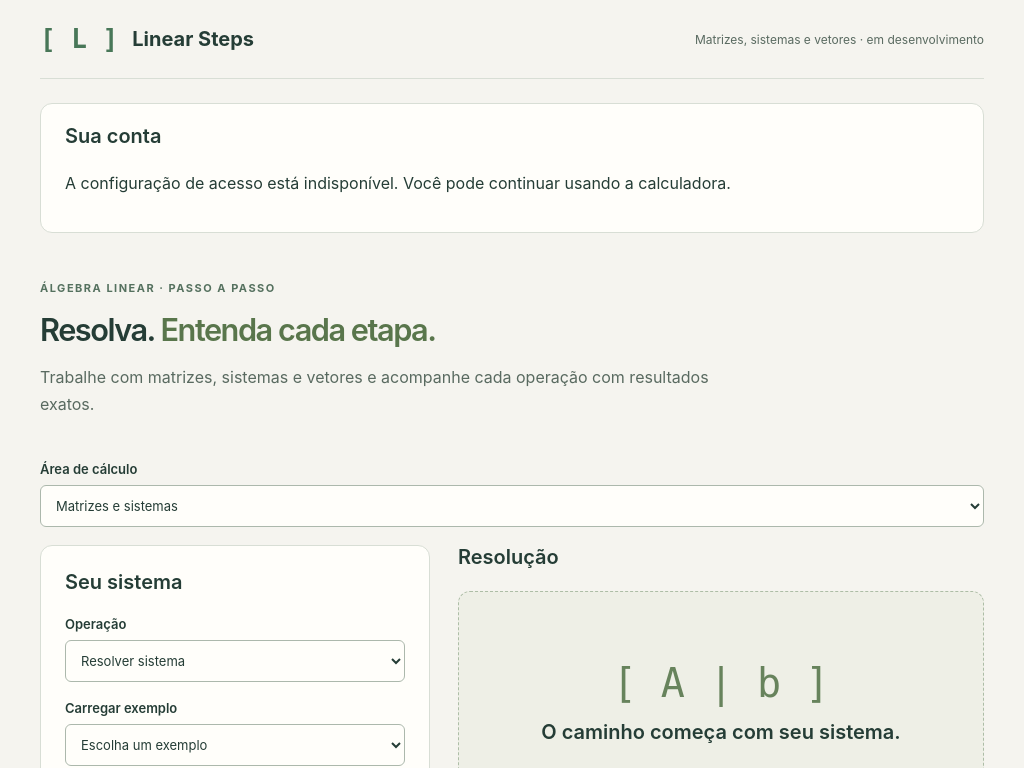
Test: rejects order five and offers an explicit method change
Select "Matriz inversa" in the dropdown labelled "Operação". click: (235, 661)
box: [65,640,405,682]
(page scrolled)
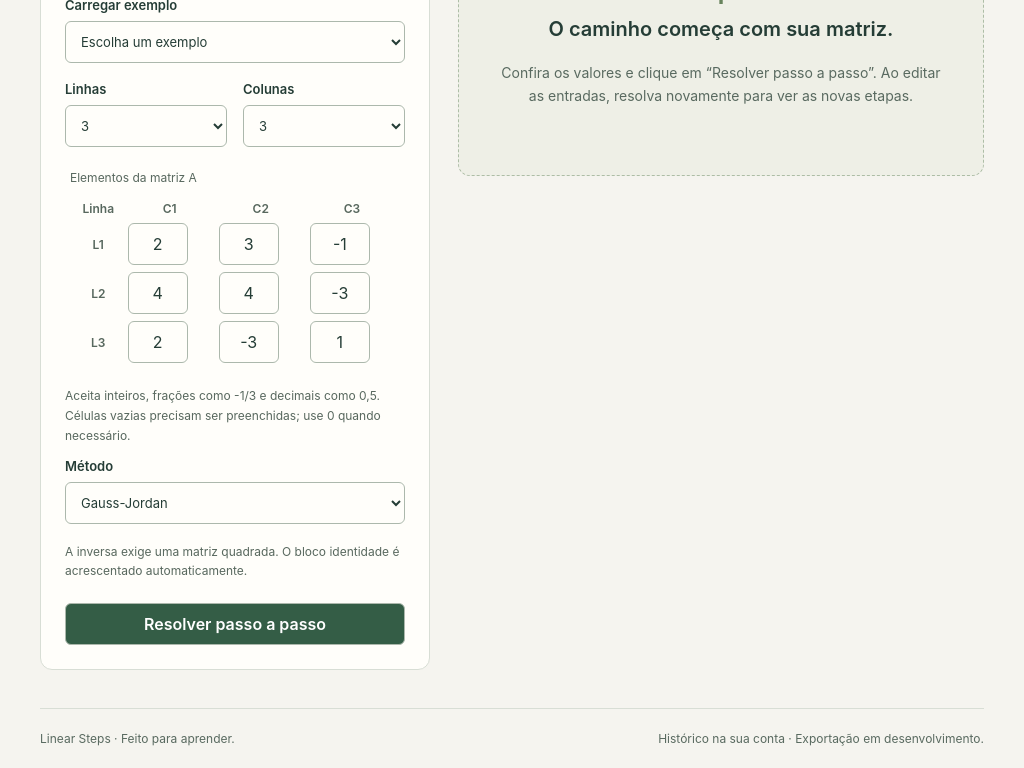
Select "Adjunta e determinante (até ordem 4)" in the dropdown labelled "Método". click: (235, 503)
box: [65,482,405,524]
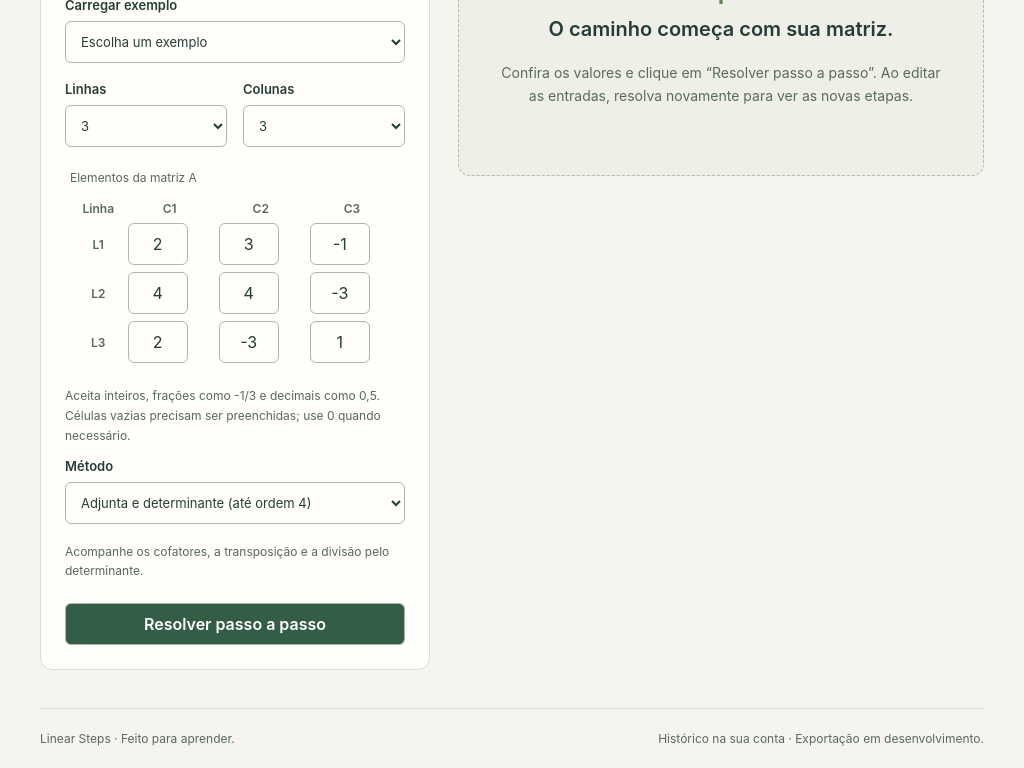
Select "5" in the dropdown labelled "Linhas". click: (146, 126)
box: [65,105,227,147]
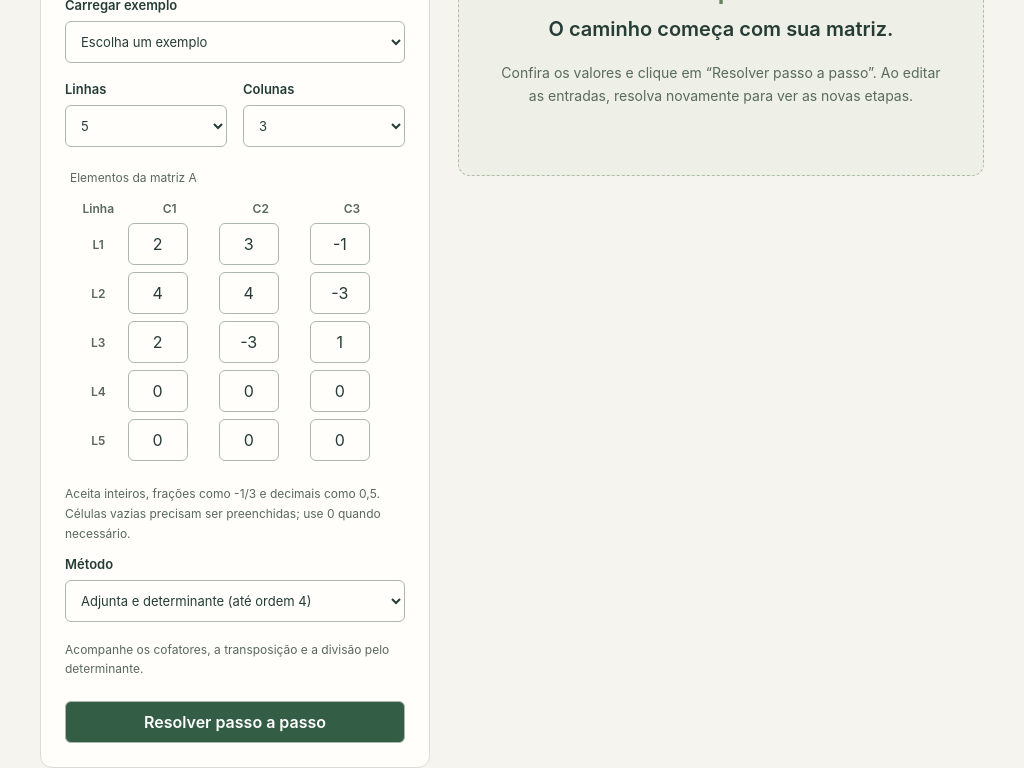
Select "5" in the dropdown labelled "Colunas". click: (324, 126)
box: [243,105,405,147]
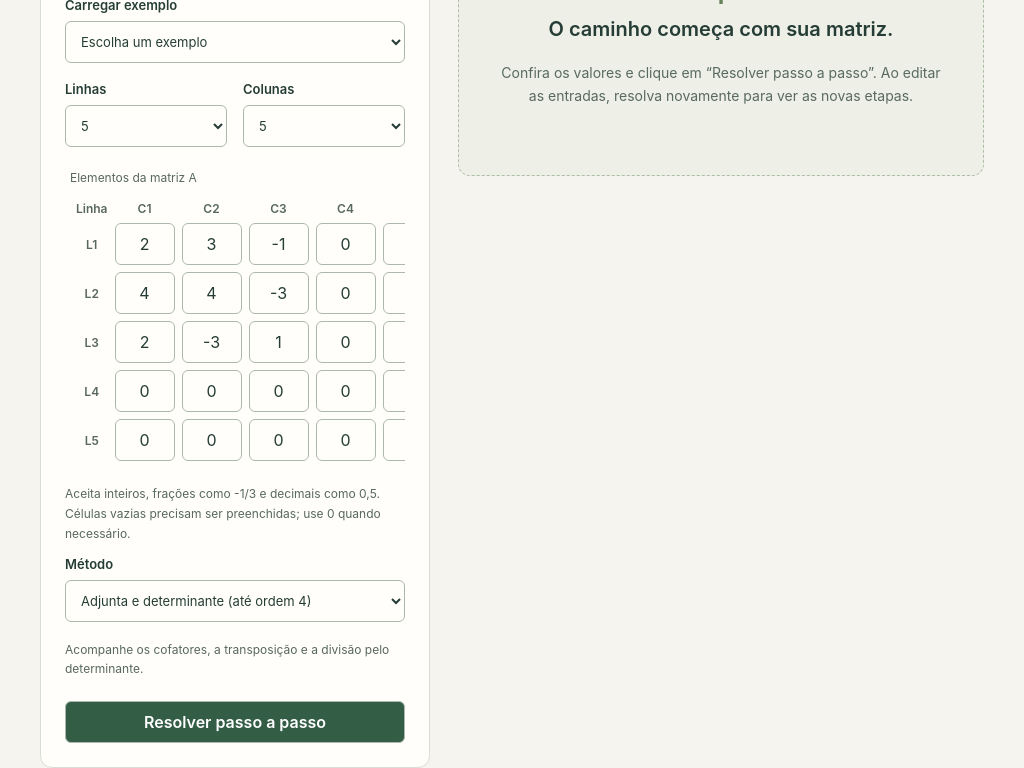
Click the button "Resolver passo a passo". click: click(235, 722)
box: [65,701,405,743]
(page scrolled)
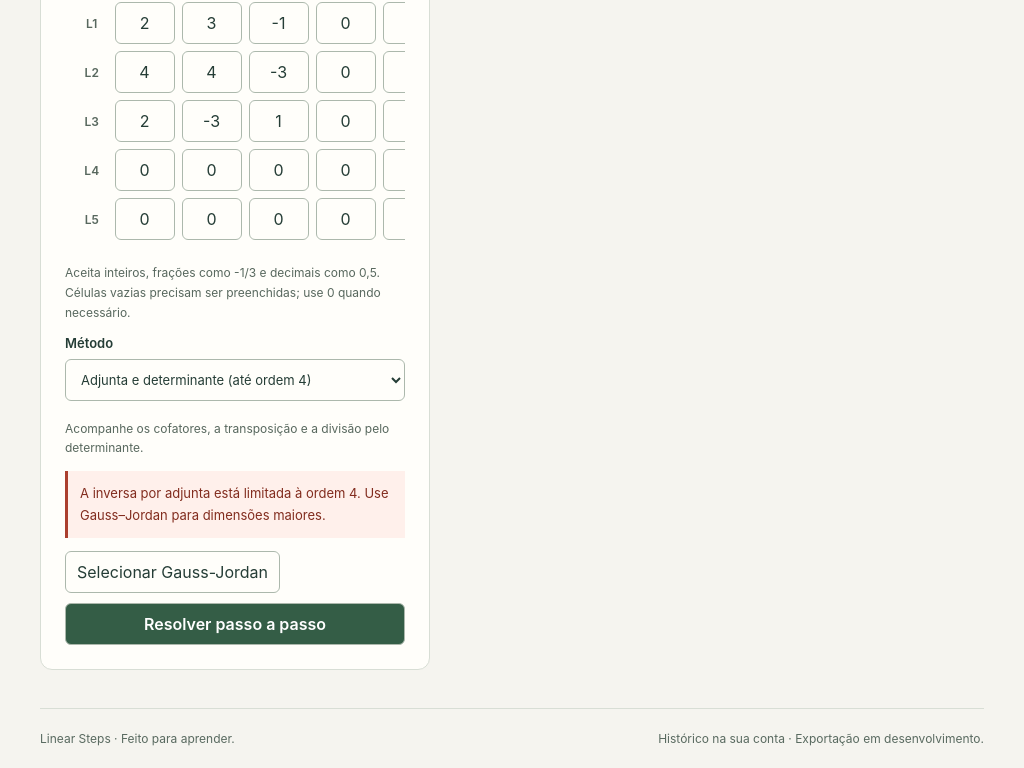
expect the message shows "ordem 4": met, box [80,485,388,523]
Click the button "Selecionar Gauss-Jordan". click: click(172, 572)
box: [65,551,280,593]
(page scrolled)
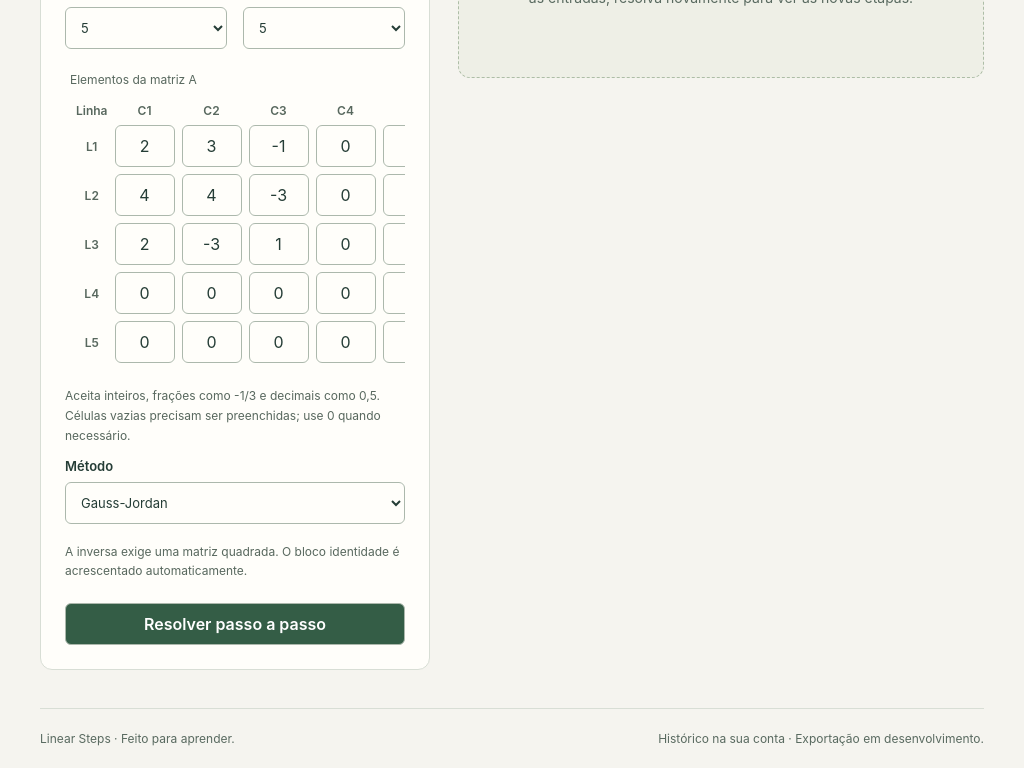
expect the message is gone: met
